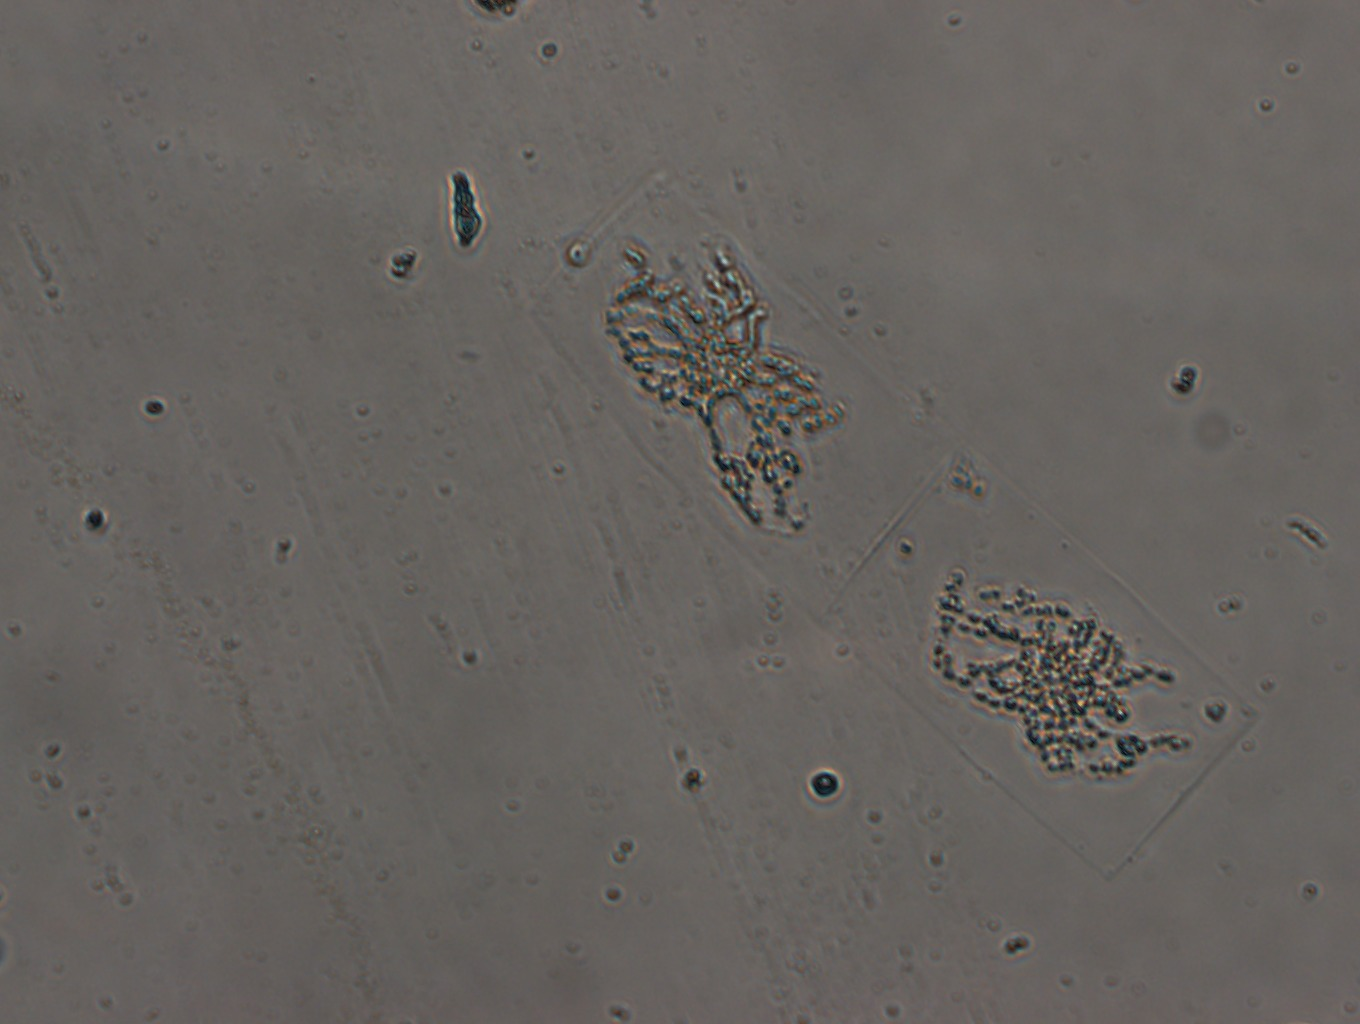helicotheca: (524, 162, 1266, 876)
